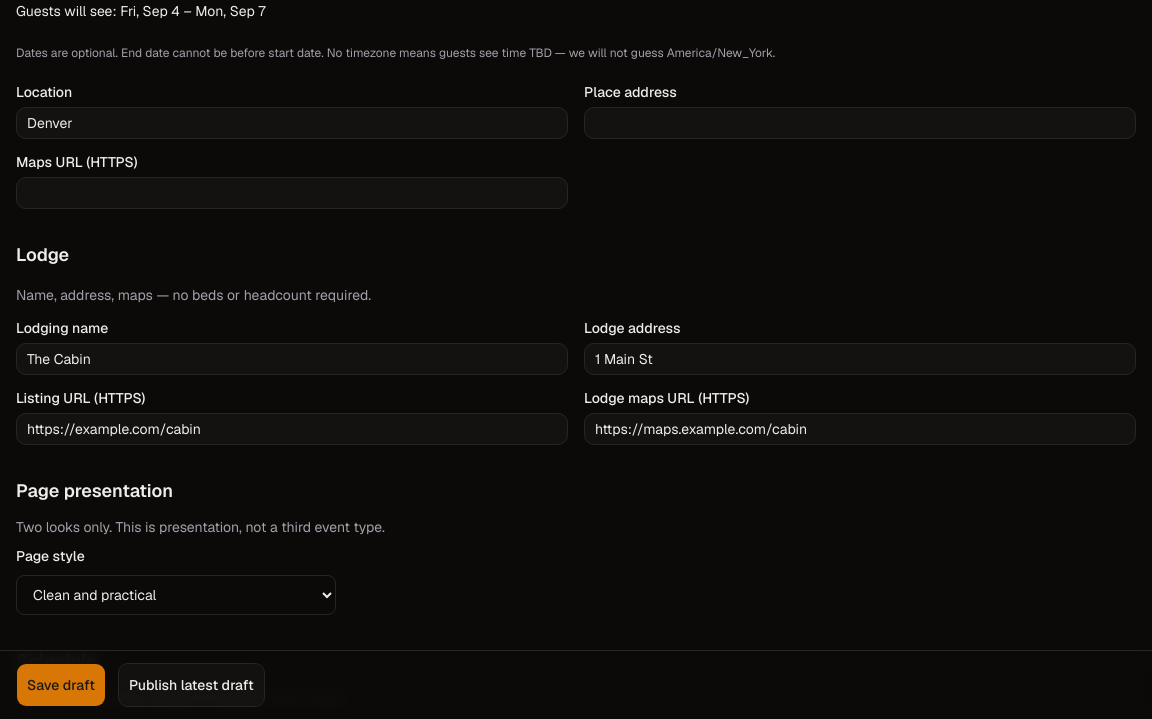
Test: HostEditor draft review safety › invalidates acknowledgement and saved state when Lodging name changes
The image size is (1152, 719).
(page scrolled)
Replace the text in the field labelled "Lodging name" with "New cabin" at coordinates (292, 359), box top-left (16, 343), bottom-right (568, 375)
(page scrolled)
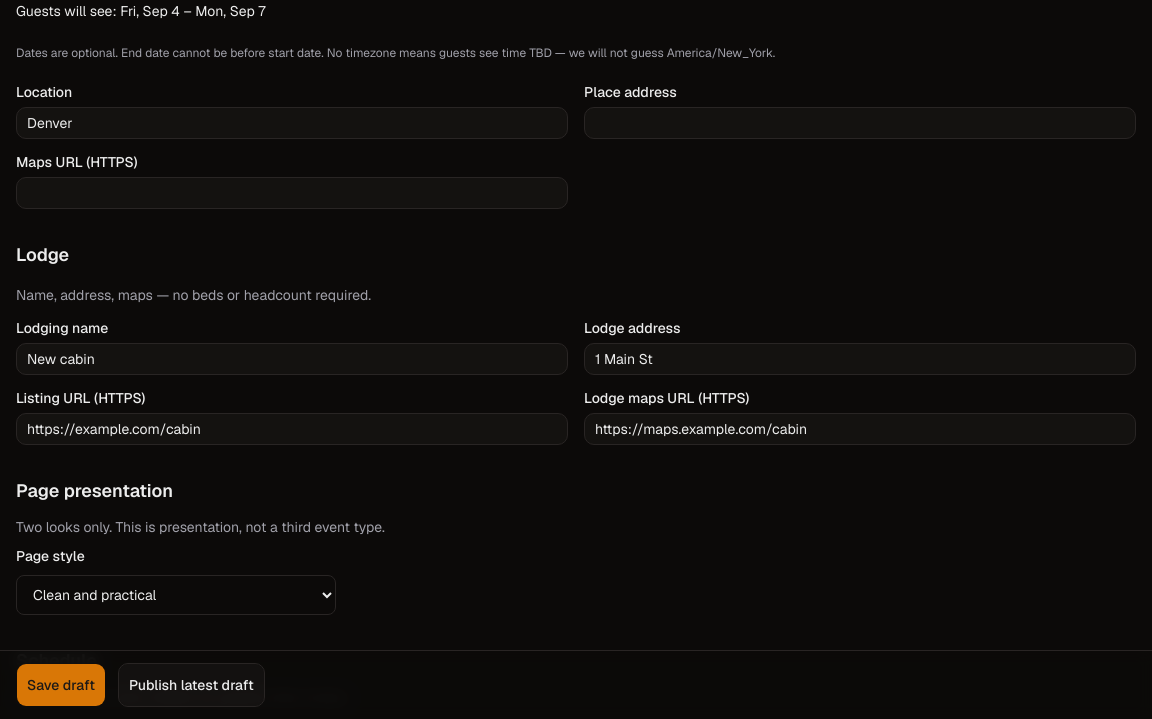
Click the button "Publish latest draft" at coordinates (191, 685), box top-left (118, 663), bottom-right (265, 707)
(page scrolled)
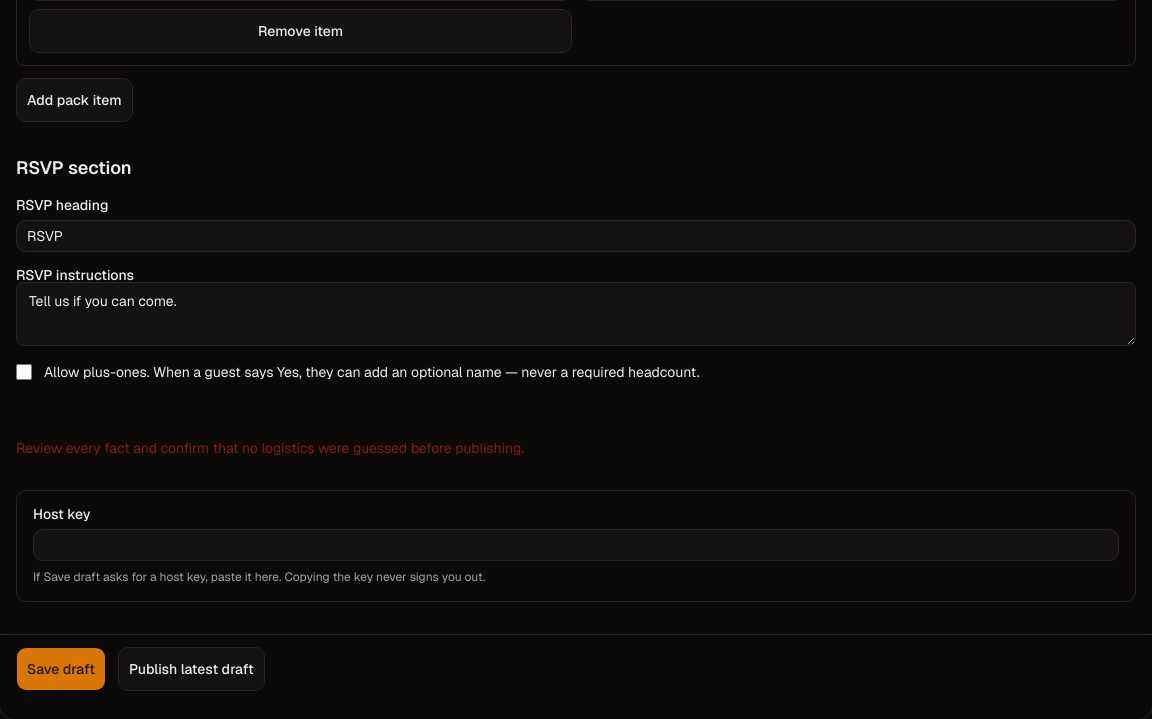
Now the message shows "Review every fact", box top-left (16, 439), bottom-right (524, 457)
